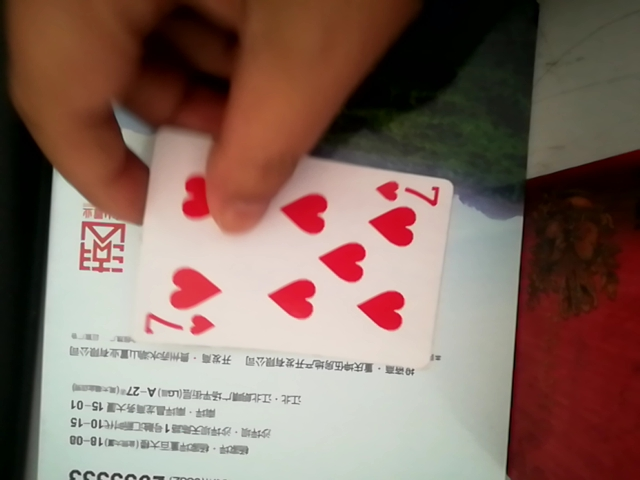hx 7: (106, 152, 454, 372)
